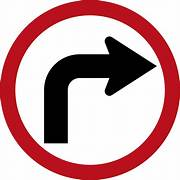right: (1, 1, 180, 180)
